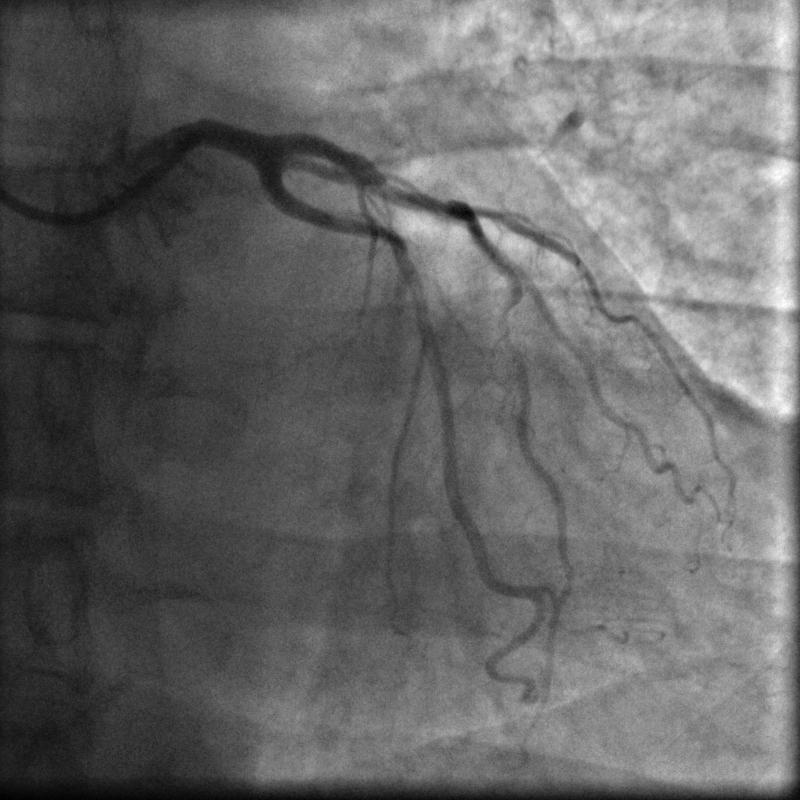Stenosis: (372, 172, 461, 220)
